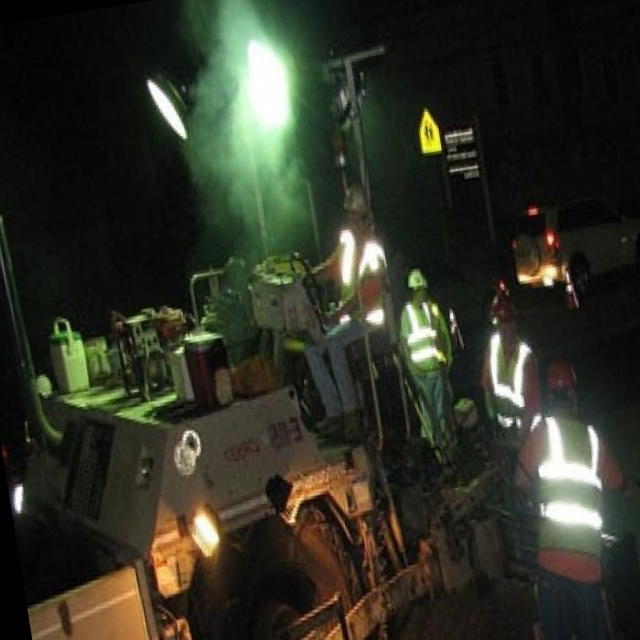Con_Chaleco: (519, 415, 617, 575), (481, 331, 540, 430), (397, 300, 447, 378)
